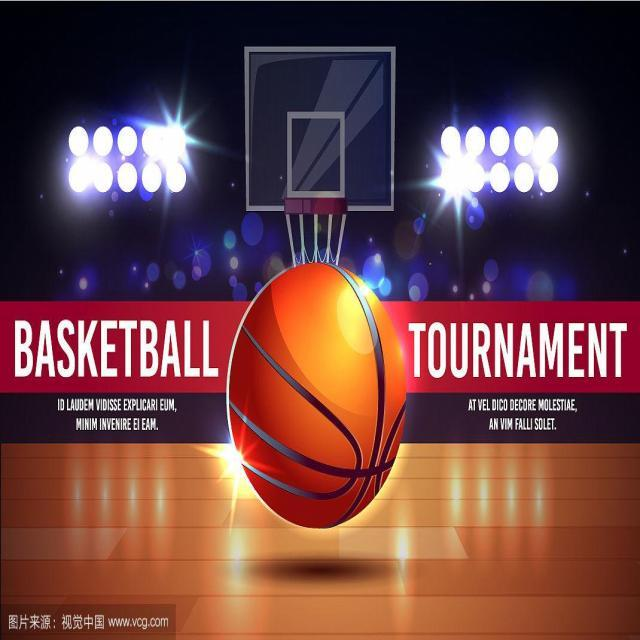rim: (226, 271, 409, 529)
